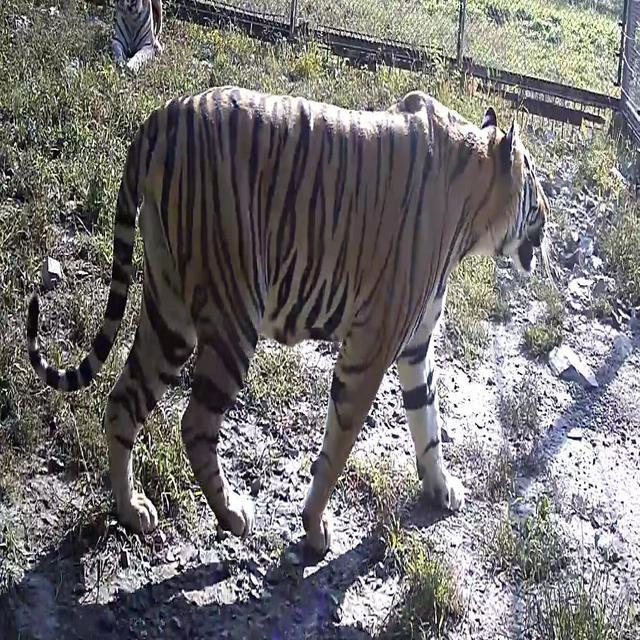tiger: (24, 83, 550, 556), (107, 0, 164, 74)
